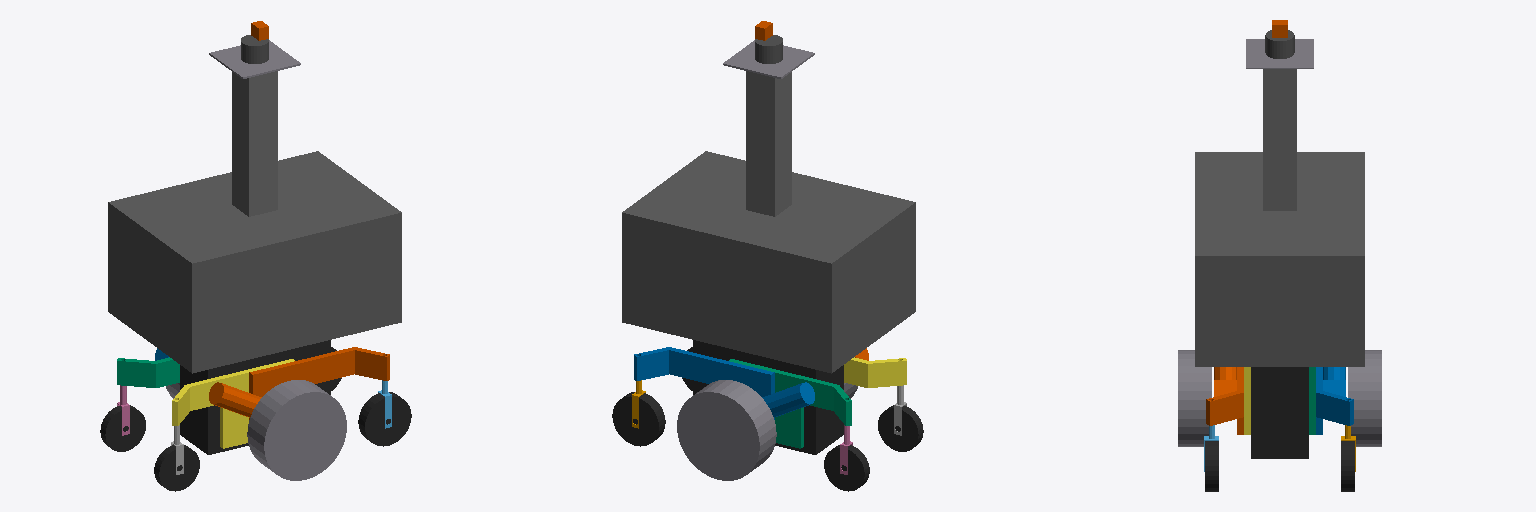
--- Facts derived from the render (not from the file) ---
The picture shows the robot from 3 angles, left to right: view 1: azimuth 30°, elevation 25°; view 2: azimuth 150°, elevation 25°; view 3: azimuth 270°, elevation 25°; orthographic projection.
Robot: infant — 29 links, 28 joints (3 continuous, 25 fixed); root link base_link; default pose: all joints at 0.
Links seen in each view (by area): view 1: box_link, wheel_right_link, mast_link, rocker_bogie_front_right_link, battery_link, rocker_bogie_back_right_link, wheel_large_right_link, rocker_bogie_back_left_link, table_link, wheel_small_right_link, wheel_small_left_link, velodyne_base_link; view 2: box_link, wheel_left_link, mast_link, rocker_bogie_front_left_link, battery_link, rocker_bogie_back_left_link, wheel_large_left_link, rocker_bogie_back_right_link, table_link, wheel_small_left_link, wheel_small_right_link, velodyne_base_link; view 3: box_link, battery_link, mast_link, wheel_left_link, wheel_right_link, rocker_bogie_front_left_link, rocker_bogie_front_right_link, table_link, wheel_large_left_link, wheel_large_right_link, velodyne_base_link.
Boxes of the visible links, x1,y1,x2,y2 form: box_link: (108,151,401,373); wheel_right_link: (247,380,346,480); mast_link: (232,71,277,216); rocker_bogie_front_right_link: (209,347,389,419); battery_link: (180,340,330,454); rocker_bogie_back_right_link: (172,359,294,448); wheel_large_right_link: (358,392,411,446); rocker_bogie_back_left_link: (117,357,179,387); table_link: (209,40,300,78); wheel_small_right_link: (154,445,199,491); wheel_small_left_link: (100,405,145,451); velodyne_base_link: (241,35,268,63); box_link: (622,151,915,373); wheel_left_link: (677,380,776,480); mast_link: (746,71,791,216); rocker_bogie_front_left_link: (634,347,814,419); battery_link: (693,340,843,454); rocker_bogie_back_left_link: (729,359,851,448); wheel_large_left_link: (612,392,665,446); rocker_bogie_back_right_link: (844,357,906,387); table_link: (723,40,814,78); wheel_small_left_link: (824,445,869,491); wheel_small_right_link: (878,405,923,451); velodyne_base_link: (755,35,782,63); box_link: (1195,152,1364,366); battery_link: (1251,367,1308,458); mast_link: (1263,69,1296,210); wheel_left_link: (1348,350,1381,446); wheel_right_link: (1178,350,1211,446); rocker_bogie_front_left_link: (1316,367,1353,434); rocker_bogie_front_right_link: (1206,367,1243,434); table_link: (1246,39,1313,68); wheel_large_left_link: (1341,441,1354,491); wheel_large_right_link: (1205,441,1218,491); velodyne_base_link: (1265,30,1294,58).
Size in the robot's own frame: 0.84 by 0.6 by 1.37 metres.
8 mesh visuals loaded from 7 distinct referenced files (6 Collada DAE); not drawn: 1 (reference not matched to a file when rendering).

robot.urdf — infant:
<?xml version="1.0" ?>
<!-- =================================================================================== -->
<!-- |    This document was autogenerated by xacro from infant.urdf.xacro              | -->
<!-- |    EDITING THIS FILE BY HAND IS NOT RECOMMENDED                                 | -->
<!-- =================================================================================== -->
<robot name="infant" xmlns:xacro="http://ros.org/wiki/xacro">
  <!-- constants for robot dimentions -->
  <!-- inertial for box -->
  <!-- inertial for cylinder -->
  <!-- inertial for wheel -->
  <!-- import Rviz color -->
  <material name="white">
    <color rgba="1 1 1 1"/>
  </material>
  <material name="gray">
    <color rgba="0.4 0.4 0.4 1"/>
  </material>
  <material name="lightgray">
    <color rgba="0.45 0.45 0.45 1"/>
  </material>
  <material name="ivory">
    <color rgba="0.54 0.53 0.56 1"/>
  </material>
  <material name="darkgray">
    <color rgba="0.35 0.35 0.35 1"/>
  </material>
  <material name="black">
    <color rgba="0.2 0.2 0.2 1"/>
  </material>
  <material name="laser_black">
    <color rgba="0.1 0.1 0.1 0.0.6"/>
  </material>
  <!-- import all Gazebo-customization elements, including Gazebo colors -->
  <gazebo reference="battery_link">
    <material>Gazebo/FlatBlack</material>
    <mu1>0.4</mu1>
    <mu2>0.4</mu2>
  </gazebo>
  <gazebo reference="rocker_bogie_back_left_link">
    <material>Gazebo/Road</material>
    <mu1>0.4</mu1>
    <mu2>0.4</mu2>
  </gazebo>
  <gazebo reference="rocker_bogie_back_right_link">
    <material>Gazebo/Road</material>
    <mu1>0.4</mu1>
    <mu2>0.4</mu2>
  </gazebo>
  <gazebo reference="rocker_bogie_front_left_link">
    <material>Gazebo/Road</material>
    <mu1>0.4</mu1>
    <mu2>0.4</mu2>
  </gazebo>
  <gazebo reference="rocker_bogie_front_right_link">
    <material>Gazebo/Road</material>
    <mu1>0.4</mu1>
    <mu2>0.4</mu2>
  </gazebo>
  <gazebo reference="caster_small_left_link">
    <material>Gazebo/Grey</material>
    <mu1>0.0</mu1>
    <mu2>0.0</mu2>
  </gazebo>
  <gazebo reference="caster_small_right_link">
    <material>Gazebo/Grey</material>
    <mu1>0.0</mu1>
    <mu2>0.0</mu2>
  </gazebo>
  <gazebo reference="caster_large_left_link">
    <material>Gazebo/Grey</material>
    <mu1>0.0</mu1>
    <mu2>0.0</mu2>
  </gazebo>
  <gazebo reference="caster_large_right_link">
    <material>Gazebo/Grey</material>
    <mu1>0.0</mu1>
    <mu2>0.0</mu2>
  </gazebo>
  <gazebo reference="wheel_left_link">
    <material>Gazebo/DarkGrey</material>
    <mu1>1.0</mu1>
    <mu2>1.0</mu2>
  </gazebo>
  <gazebo reference="wheel_right_link">
    <material>Gazebo/DarkGrey</material>
    <mu1>1.0</mu1>
    <mu2>1.0</mu2>
  </gazebo>
  <gazebo reference="wheel_small_left_link">
    <material>Gazebo/Black</material>
    <mu1>0.2</mu1>
    <mu2>0.0</mu2>
  </gazebo>
  <gazebo reference="wheel_small_right_link">
    <material>Gazebo/Black</material>
    <mu1>0.2</mu1>
    <mu2>0.0</mu2>
  </gazebo>
  <gazebo reference="wheel_large_left_link">
    <material>Gazebo/Black</material>
    <mu1>0.2</mu1>
    <mu2>0.0</mu2>
  </gazebo>
  <gazebo reference="wheel_large_right_link">
    <material>Gazebo/Black</material>
    <mu1>0.2</mu1>
    <mu2>0.0</mu2>
  </gazebo>
  <gazebo reference="box_link">
    <material>Gazebo/White</material>
  </gazebo>
  <gazebo reference="mast_link">
    <material>Gazebo/Grey</material>
  </gazebo>
  <gazebo reference="table_link">
    <material>Gazebo/Grey</material>
  </gazebo>
  <gazebo reference="velodyne_base_link">
    <material>Gazebo/Gold</material>
    <mu1>0.0</mu1>
    <mu2>0.0</mu2>
  </gazebo>
  <gazebo reference="velodyne_top_link">
    <material>Gazebo/Gold</material>
    <mu1>0.0</mu1>
    <mu2>0.0</mu2>
  </gazebo>
  <gazebo reference="velodyne_laser_link">
    <material>Gazebo/Black</material>
  </gazebo>
  <!-- imu -->
  <gazebo>
    <plugin filename="libgazebo_ros_imu.so" name="imu_controller">
      <updateRate>100.0</updateRate>
      <topicName>/infant/imu_data</topicName>
      <frameName>base_link</frameName>
      <bodyName>base_link</bodyName>
      <frameId>base_link</frameId>
      <topicName>/rinfant/imu_data</topicName>
      <serviceName>/default_imu</serviceName>
      <xyzOffset>0 0 0</xyzOffset>
      <rpyOffset>0 0 0</rpyOffset>
      <!-- deprecated -->
      <gaussianNoise>0</gaussianNoise>
      <!-- deprecated -->
      <accelDrift>0.5 0.5 0.5</accelDrift>
      <accelGaussianNoise>0.35 0.35 0.3</accelGaussianNoise>
      <rateDrift>0.0 0.0 0.0</rateDrift>
      <rateGaussianNoise>0.00 0.00 0.00</rateGaussianNoise>
      <headingDrift>0.0</headingDrift>
      <headingGaussianNoise>0.00</headingGaussianNoise>
    </plugin>
  </gazebo>
  <!-- velodyne -->
  <!--gazebo reference="velodyne_laser_link">
		<sensor type="ray" name="head_velodyne_sensor">
			<visualize>false</visualize>
			<update_rate>1</update_rate>
			<ray>
				<scan>
					<horizontal>
						<samples>1080</samples>
						<resolution>1</resolution>
						<min_angle>-3.1415</min_angle>
						<max_angle>3.1415</max_angle>
					</horizontal>
					<vertical>
						<samples>32</samples>
						<resolution>1</resolution>
						<min_angle>-0.186227</min_angle>
						<max_angle>0.535292</max_angle>
					</vertical>
				</scan>
				<range>
					<min>0.10</min>
					<max>70.0</max>
					<resolution>0.01</resolution>
				</range>
				<noise>
					<type>gaussian</type>
					<mean>0.0</mean>
					<stddev>0.01</stddev>
				</noise>
			</ray>
			<plugin name="gazebo_ros_head_velodyne_controller" filename="libgazebo_ros_block_laser.so">
				<alwaysOn>true</alwaysOn>
				<updateRate>1</updateRate>
				<topicName>/infant/velodyne_points</topicName>
				<frameName>velodyne_laser_link</frameName>
			</plugin>
		</sensor>
	</gazebo-->
  <!-- hokuyo -->
  <gazebo reference="velodyne_laser_link">
    <sensor name="hokuyo_sensor" type="ray">
      <pose>0 0 0 0 0 0</pose>
      <visualize>true</visualize>
      <update_rate>500</update_rate>
      <ray>
        <scan>
          <horizontal>
            <samples>32</samples>
            <resolution>1</resolution>
            <min_angle>-0.186227</min_angle>
            <max_angle>0.535292</max_angle>
          </horizontal>
        </scan>
        <range>
          <min>1.0</min>
          <max>70.0</max>
          <resolution>0.01</resolution>
        </range>
        <noise>
          <type>gaussian</type>
          <!-- Noise parameters based on published spec for Hokuyo laser
						 achieving "+-30mm" accuracy at range < 10m.  A mean of 0.0m and
						 stddev of 0.01m will put 99.7% of samples within 0.03m of the true
						 reading. -->
          <mean>0.0</mean>
          <stddev>0.0</stddev>
        </noise>
      </ray>
      <plugin filename="libgazebo_ros_laser.so" name="gazebo_ros_hokuyo_controller">
        <topicName>/infant/laser/scan</topicName>
        <frameName>velodyne_laser_link</frameName>
      </plugin>
    </sensor>
  </gazebo>
  <gazebo reference="velodyne_laser2_link">
    <sensor name="hokuyo_sensor_2" type="ray">
      <pose>0 0 0 0 0 0</pose>
      <visualize>true</visualize>
      <update_rate>500</update_rate>
      <ray>
        <scan>
          <horizontal>
            <samples>32</samples>
            <resolution>1</resolution>
            <min_angle>-0.186227</min_angle>
            <max_angle>0.535292</max_angle>
          </horizontal>
        </scan>
        <range>
          <min>1.0</min>
          <max>70.0</max>
          <resolution>0.01</resolution>
        </range>
        <noise>
          <type>gaussian</type>
          <mean>0.0</mean>
          <stddev>0.0</stddev>
        </noise>
      </ray>
      <plugin filename="libgazebo_ros_laser.so" name="gazebo_ros_hokuyo_controller">
        <topicName>/infant/laser/scan2</topicName>
        <frameName>velodyne_laser2_link</frameName>
      </plugin>
    </sensor>
  </gazebo>
  <gazebo reference="velodyne_laser3_link">
    <sensor name="hokuyo_sensor_3" type="ray">
      <pose>0 0 0 0 0 0</pose>
      <visualize>true</visualize>
      <update_rate>500</update_rate>
      <ray>
        <scan>
          <horizontal>
            <samples>32</samples>
            <resolution>1</resolution>
            <min_angle>-0.186227</min_angle>
            <max_angle>0.535292</max_angle>
          </horizontal>
        </scan>
        <range>
          <min>1.0</min>
          <max>70.0</max>
          <resolution>0.01</resolution>
        </range>
        <noise>
          <type>gaussian</type>
          <mean>0.0</mean>
          <stddev>0.0</stddev>
        </noise>
      </ray>
      <plugin filename="libgazebo_ros_laser.so" name="gazebo_ros_hokuyo_controller">
        <topicName>/infant/laser/scan3</topicName>
        <frameName>velodyne_laser3_link</frameName>
      </plugin>
    </sensor>
  </gazebo>
  <gazebo reference="velodyne_laser4_link">
    <sensor name="hokuyo_sensor_4" type="ray">
      <pose>0 0 0 0 0 0</pose>
      <visualize>true</visualize>
      <update_rate>500</update_rate>
      <ray>
        <scan>
          <horizontal>
            <samples>32</samples>
            <resolution>1</resolution>
            <min_angle>-0.186227</min_angle>
            <max_angle>0.535292</max_angle>
          </horizontal>
        </scan>
        <range>
          <min>1.0</min>
          <max>70.0</max>
          <resolution>0.01</resolution>
        </range>
        <noise>
          <type>gaussian</type>
          <mean>0.0</mean>
          <stddev>0.0</stddev>
        </noise>
      </ray>
      <plugin filename="libgazebo_ros_laser.so" name="gazebo_ros_hokuyo_controller">
        <topicName>/infant/laser/scan4</topicName>
        <frameName>velodyne_laser4_link</frameName>
      </plugin>
    </sensor>
  </gazebo>
  <gazebo reference="velodyne_laser5_link">
    <sensor name="hokuyo_sensor_5" type="ray">
      <pose>0 0 0 0 0 0</pose>
      <visualize>true</visualize>
      <update_rate>500</update_rate>
      <ray>
        <scan>
          <horizontal>
            <samples>32</samples>
            <resolution>1</resolution>
            <min_angle>-0.186227</min_angle>
            <max_angle>0.535292</max_angle>
          </horizontal>
        </scan>
        <range>
          <min>1.0</min>
          <max>70.0</max>
          <resolution>0.01</resolution>
        </range>
        <noise>
          <type>gaussian</type>
          <mean>0.0</mean>
          <stddev>0.0</stddev>
        </noise>
      </ray>
      <plugin filename="libgazebo_ros_laser.so" name="gazebo_ros_hokuyo_controller">
        <topicName>/infant/laser/scan5</topicName>
        <frameName>velodyne_laser5_link</frameName>
      </plugin>
    </sensor>
  </gazebo>
  <gazebo reference="velodyne_laser6_link">
    <sensor name="hokuyo_sensor_6" type="ray">
      <pose>0 0 0 0 0 0</pose>
      <visualize>true</visualize>
      <update_rate>500</update_rate>
      <ray>
        <scan>
          <horizontal>
            <samples>32</samples>
            <resolution>1</resolution>
            <min_angle>-0.186227</min_angle>
            <max_angle>0.535292</max_angle>
          </horizontal>
        </scan>
        <range>
          <min>1.0</min>
          <max>70.0</max>
          <resolution>0.01</resolution>
        </range>
        <noise>
          <type>gaussian</type>
          <mean>0.0</mean>
          <stddev>0.0</stddev>
        </noise>
      </ray>
      <plugin filename="libgazebo_ros_laser.so" name="gazebo_ros_hokuyo_controller">
        <topicName>/infant/laser/scan6</topicName>
        <frameName>velodyne_laser6_link</frameName>
      </plugin>
    </sensor>
  </gazebo>
  <gazebo reference="velodyne_laser7_link">
    <sensor name="hokuyo_sensor_7" type="ray">
      <pose>0 0 0 0 0 0</pose>
      <visualize>true</visualize>
      <update_rate>500</update_rate>
      <ray>
        <scan>
          <horizontal>
            <samples>32</samples>
            <resolution>1</resolution>
            <min_angle>-0.186227</min_angle>
            <max_angle>0.535292</max_angle>
          </horizontal>
        </scan>
        <range>
          <min>1.0</min>
          <max>70.0</max>
          <resolution>0.01</resolution>
        </range>
        <noise>
          <type>gaussian</type>
          <mean>0.0</mean>
          <stddev>0.0</stddev>
        </noise>
      </ray>
      <plugin filename="libgazebo_ros_laser.so" name="gazebo_ros_hokuyo_controller">
        <topicName>/infant/laser/scan7</topicName>
        <frameName>velodyne_laser7_link</frameName>
      </plugin>
    </sensor>
  </gazebo>
  <gazebo reference="velodyne_laser8_link">
    <sensor name="hokuyo_sensor_8" type="ray">
      <pose>0 0 0 0 0 0</pose>
      <visualize>true</visualize>
      <update_rate>500</update_rate>
      <ray>
        <scan>
          <horizontal>
            <samples>32</samples>
            <resolution>1</resolution>
            <min_angle>-0.186227</min_angle>
            <max_angle>0.535292</max_angle>
          </horizontal>
        </scan>
        <range>
          <min>1.0</min>
          <max>70.0</max>
          <resolution>0.01</resolution>
        </range>
        <noise>
          <type>gaussian</type>
          <mean>0.0</mean>
          <stddev>0.0</stddev>
        </noise>
      </ray>
      <plugin filename="libgazebo_ros_laser.so" name="gazebo_ros_hokuyo_controller">
        <topicName>/infant/laser/scan8</topicName>
        <frameName>velodyne_laser8_link</frameName>
      </plugin>
    </sensor>
  </gazebo>
  <!-- ros_control plugin -->
  <gazebo>
    <plugin filename="libgazebo_ros_control.so" name="gazebo_ros_control">
      <robotNamespace>/infant</robotNamespace>
    </plugin>
  </gazebo>
  <link name="base_link"/>
  <joint name="base_to_battery_joint" type="fixed">
    <parent link="base_link"/>
    <child link="battery_link"/>
    <origin rpy="0 0 0" xyz="0 0 0.140"/>
  </joint>
  <link name="battery_link">
    <visual>
      <geometry>
        <box size="0.42 0.17 0.37"/>
      </geometry>
      <origin rpy="0 0 0" xyz="0 0 0.085"/>
      <material name="black"/>
    </visual>
    <collision>
      <geometry>
        <box size="0.42 0.17 0.37"/>
      </geometry>
      <origin rpy="0 0 0" xyz="0 0 0.085"/>
    </collision>
    <inertial>
      <origin rpy="0 0 0" xyz="0.0 0.0 0.085"/>
      <mass value="40"/>
      <inertia ixx="0.552666666667" ixy="0.0" ixz="0.0" iyy="1.04433333333" iyz="0.0" izz="0.684333333333"/>
    </inertial>
  </link>
  <joint name="rocker_bogie_back_left_joint" type="fixed">
    <parent link="battery_link"/>
    <child link="rocker_bogie_back_left_link"/>
    <origin rpy="0 0 0" xyz="0 0.085 0"/>
  </joint>
  <link name="rocker_bogie_back_left_link">
    <visual>
      <geometry>
        <mesh filename="package://infant_description/meshes/rocker_bogie_parts_back_left.dae"/>
      </geometry>
      <origin rpy="0 3.141592 0" xyz="0 -0.0 0"/>
    </visual>
    <collision>
      <geometry>
        <box size="0.46056514 0.09383127 0.23"/>
      </geometry>
      <origin rpy="0 0 0" xyz="-0.15028257 0.046915635 0.035"/>
    </collision>
    <inertial>
      <origin rpy="0 0 0" xyz="-0.15028257 0.046915635 0.035"/>
      <mass value="5"/>
      <inertia ixx="0.0257101280124" ixy="0.0" ixz="0.0" iyy="0.11042510341" iyz="0.0" izz="0.0920518980888"/>
    </inertial>
  </link>
  <joint name="rocker_bogie_back_right_joint" type="fixed">
    <parent link="battery_link"/>
    <child link="rocker_bogie_back_right_link"/>
    <origin rpy="0 0 0" xyz="0 -0.085 0"/>
  </joint>
  <link name="rocker_bogie_back_right_link">
    <visual>
      <geometry>
        <mesh filename="package://infant_description/meshes/rocker_bogie_parts_back_right.dae"/>
      </geometry>
      <origin rpy="0 3.141592 0" xyz="0 -0.02 0"/>
    </visual>
    <collision>
      <geometry>
        <box size="0.46056514 0.09383127 0.23"/>
      </geometry>
      <origin rpy="0 0 0" xyz="-0.15028257 -0.046915635 0.035"/>
    </collision>
    <inertial>
      <origin rpy="0 0 0" xyz="-0.15028257 -0.046915635 0.035"/>
      <mass value="5"/>
      <inertia ixx="0.0257101280124" ixy="0.0" ixz="0.0" iyy="0.11042510341" iyz="0.0" izz="0.0920518980888"/>
    </inertial>
  </link>
  <joint name="rocker_bogie_front_left_joint" type="fixed">
    <parent link="battery_link"/>
    <child link="rocker_bogie_front_left_link"/>
    <origin rpy="0 0 0" xyz="0 0.105 0"/>
  </joint>
  <link name="rocker_bogie_front_left_link">
    <visual>
      <geometry>
        <mesh filename="package://infant_description/meshes/rocker_bogie_parts_front_left.dae"/>
      </geometry>
      <origin rpy="3.141592 0 0" xyz="0 0.02 0"/>
    </visual>
    <collision>
      <geometry>
        <box size="0.42535668 0.11153324 0.23"/>
      </geometry>
      <origin rpy="0 0 0" xyz="0.13267834 0.05576662 0.035"/>
    </collision>
    <inertial>
      <origin rpy="0 0 0" xyz="0.13267834 0.05576662 0.035"/>
      <mass value="5"/>
      <inertia ixx="0.0272248598437" ixy="0.0" ixz="0.0" iyy="0.0974284605086" iyz="0.0" izz="0.080569987019"/>
    </inertial>
  </link>
  <joint name="rocker_bogie_front_right_joint" type="fixed">
    <parent link="battery_link"/>
    <child link="rocker_bogie_front_right_link"/>
    <origin rpy="0 0 0" xyz="0 -0.105 0"/>
  </joint>
  <link name="rocker_bogie_front_right_link">
    <visual>
      <geometry>
        <mesh filename="package://infant_description/meshes/rocker_bogie_parts_front_right.dae"/>
      </geometry>
      <origin rpy="3.141592 0 0" xyz="0 0.0 0"/>
    </visual>
    <collision>
      <geometry>
        <box size="0.42535668 0.11153324 0.23"/>
      </geometry>
      <origin rpy="0 0 0" xyz="0.13267834 -0.05576662 0.035"/>
    </collision>
    <inertial>
      <origin rpy="0 0 0" xyz="0.13267834 -0.05576662 0.035"/>
      <mass value="5"/>
      <inertia ixx="0.0272248598437" ixy="0.0" ixz="0.0" iyy="0.0974284605086" iyz="0.0" izz="0.080569987019"/>
    </inertial>
  </link>
  <joint name="caster_small_left_joint" type="fixed">
    <parent link="rocker_bogie_back_left_link"/>
    <child link="caster_small_left_link"/>
    <origin rpy="0 0 0" xyz="-0.360 0.075 0.070"/>
    <axis xyz="0 0 1"/>
  </joint>
  <link name="caster_small_left_link">
    <visual>
      <geometry>
        <mesh filename="package://infant_description/meshes/caster_small.dae"/>
      </geometry>
      <origin rpy="-1.570796 0 1.570796" xyz="0 0 0"/>
    </visual>
    <collision>
      <geometry>
        <cylinder length="0.065" radius="0.01"/>
      </geometry>
      <origin rpy="0 0 0" xyz="0 0 -0.0325"/>
    </collision>
    <inertial>
      <origin rpy="0 0 0" xyz="0.0 0.0 -0.0325"/>
      <mass value="0.5"/>
      <inertia ixx="0.000188541666667" ixy="0.0" ixz="0.0" iyy="0.000188541666667" iyz="0.0" izz="2.5e-05"/>
    </inertial>
  </link>
  <joint name="caster_small_right_joint" type="fixed">
    <parent link="rocker_bogie_back_right_link"/>
    <child link="caster_small_right_link"/>
    <origin rpy="0 0 0" xyz="-0.360 -0.075 0.070"/>
    <axis xyz="0 0 1"/>
  </joint>
  <link name="caster_small_right_link">
    <visual>
      <geometry>
        <mesh filename="package://infant_description/meshes/caster_small.dae"/>
      </geometry>
      <origin rpy="-1.570796 0 1.570796" xyz="0 0 0"/>
    </visual>
    <collision>
      <geometry>
        <cylinder length="0.065" radius="0.01"/>
      </geometry>
      <origin rpy="0 0 0" xyz="0 0 -0.0325"/>
    </collision>
    <inertial>
      <origin rpy="0 0 0" xyz="0.0 0.0 -0.0325"/>
      <mass value="0.5"/>
      <inertia ixx="0.000188541666667" ixy="0.0" ixz="0.0" iyy="0.000188541666667" iyz="0.0" izz="2.5e-05"/>
    </inertial>
  </link>
  <joint name="caster_large_left_joint" type="fixed">
    <parent link="rocker_bogie_front_left_link"/>
    <child link="caster_large_left_link"/>
    <origin rpy="0 0 0" xyz="0.330 0.095 0.070"/>
    <axis xyz="0 0 1"/>
  </joint>
  <link name="caster_large_left_link">
    <visual>
      <geometry>
        <mesh filename="package://infant_description/meshes/caster_large.dae"/>
      </geometry>
      <origin rpy="-1.570796 0 1.570796" xyz="0 0 0"/>
    </visual>
    <collision>
      <geometry>
        <cylinder length="0.045" radius="0.01"/>
      </geometry>
      <origin rpy="0 0 0" xyz="0 0 -0.0225"/>
    </collision>
    <inertial>
      <origin rpy="0 0 0" xyz="0.0 0.0 -0.0225"/>
      <mass value="0.5"/>
      <inertia ixx="9.6875e-05" ixy="0.0" ixz="0.0" iyy="9.6875e-05" iyz="0.0" izz="2.5e-05"/>
    </inertial>
  </link>
  <joint name="caster_large_right_joint" type="fixed">
    <parent link="rocker_bogie_front_right_link"/>
    <child link="caster_large_right_link"/>
    <origin rpy="0 0 0" xyz="0.330 -0.095 0.070"/>
    <axis xyz="0 0 1"/>
  </joint>
  <link name="caster_large_right_link">
    <visual>
      <geometry>
        <mesh filename="package://infant_description/meshes/caster_large.dae"/>
      </geometry>
      <origin rpy="-1.570796 0 1.570796" xyz="0 0 0"/>
    </visual>
    <collision>
      <geometry>
        <cylinder length="0.045" radius="0.01"/>
      </geometry>
      <origin rpy="0 0 0" xyz="0 0 -0.0225"/>
    </collision>
    <inertial>
      <origin rpy="0 0 0" xyz="0.0 0.0 -0.0225"/>
      <mass value="0.5"/>
      <inertia ixx="9.6875e-05" ixy="0.0" ixz="0.0" iyy="9.6875e-05" iyz="0.0" izz="2.5e-05"/>
    </inertial>
  </link>
  <joint name="wheel_left_joint" type="continuous">
    <parent link="rocker_bogie_front_left_link"/>
    <child link="wheel_left_link"/>
    <origin rpy="0 0 0" xyz="0 0.145 0"/>
    <axis xyz="0 1 0"/>
  </joint>
  <link name="wheel_left_link">
    <visual>
      <geometry>
        <cylinder length="0.100" radius="0.14239"/>
      </geometry>
      <origin rpy="1.570796 0 0" xyz="0 0 0"/>
      <material name="ivory"/>
    </visual>
    <collision>
      <geometry>
        <cylinder length="0.100" radius="0.14239"/>
      </geometry>
      <origin rpy="1.570796 0 0" xyz="0 0 0"/>
    </collision>
    <inertial>
      <origin rpy="0 0 0" xyz="0.0 0.0 0.0"/>
      <mass value="4"/>
      <inertia ixx="0.0235652664543" ixy="0.0" ixz="0.0" iyy="0.040463866242" iyz="0.0" izz="0.0235652664543"/>
    </inertial>
  </link>
  <joint name="wheel_right_joint" type="continuous">
    <parent link="rocker_bogie_front_right_link"/>
    <child link="wheel_right_link"/>
    <origin rpy="0 0 0" xyz="0 -0.145 0"/>
    <axis xyz="0 1 0"/>
  </joint>
  <link name="wheel_right_link">
    <visual>
      <geometry>
        <cylinder length="0.100" radius="0.14239"/>
      </geometry>
      <origin rpy="1.570796 0 0" xyz="0 0 0"/>
      <material name="ivory"/>
    </visual>
    <collision>
      <geometry>
        <cylinder length="0.100" radius="0.14239"/>
      </geometry>
      <origin rpy="1.570796 0 0" xyz="0 0 0"/>
    </collision>
    <inertial>
      <origin rpy="0 0 0" xyz="0.0 0.0 0.0"/>
      <mass value="4"/>
      <inertia ixx="0.0235652664543" ixy="0.0" ixz="0.0" iyy="0.040463866242" iyz="0.0" izz="0.0235652664543"/>
    </inertial>
  </link>
  <joint name="wheel_small_left_joint" type="fixed">
    <parent link="caster_small_left_link"/>
    <child link="wheel_small_left_link"/>
    <origin rpy="0 0 0" xyz="0 0 -0.145"/>
    <axis xyz="0 1 0"/>
  </joint>
  <link name="wheel_small_left_link">
    <visual>
      <geometry>
        <cylinder length="0.030" radius="0.070"/>
      </geometry>
      <origin rpy="1.570796 0 0" xyz="0 0 0"/>
      <material name="black"/>
    </visual>
    <collision>
      <geometry>
        <cylinder length="0.030" radius="0.070"/>
      </geometry>
      <origin rpy="1.570796 0 0" xyz="0 0 0"/>
    </collision>
    <inertial>
      <origin rpy="0 0 0" xyz="0.0 0.0 0.0"/>
      <mass value="1.5"/>
      <inertia ixx="0.00195" ixy="0.0" ixz="0.0" iyy="0.003675" iyz="0.0" izz="0.00195"/>
    </inertial>
  </link>
  <joint name="wheel_small_right_joint" type="fixed">
    <parent link="caster_small_right_link"/>
    <child link="wheel_small_right_link"/>
    <origin rpy="0 0 0" xyz="0 0 -0.145"/>
    <axis xyz="0 1 0"/>
  </joint>
  <link name="wheel_small_right_link">
    <visual>
      <geometry>
        <cylinder length="0.030" radius="0.070"/>
      </geometry>
      <origin rpy="1.570796 0 0" xyz="0 0 0"/>
      <material name="black"/>
    </visual>
    <collision>
      <geometry>
        <cylinder length="0.030" radius="0.070"/>
      </geometry>
      <origin rpy="1.570796 0 0" xyz="0 0 0"/>
    </collision>
    <inertial>
      <origin rpy="0 0 0" xyz="0.0 0.0 0.0"/>
      <mass value="1.5"/>
      <inertia ixx="0.00195" ixy="0.0" ixz="0.0" iyy="0.003675" iyz="0.0" izz="0.00195"/>
    </inertial>
  </link>
  <joint name="wheel_large_left_joint" type="fixed">
    <parent link="caster_large_left_link"/>
    <child link="wheel_large_left_link"/>
    <origin pry="0 0 0" xyz="0 0 -0.130"/>
    <axis xyz="0 1 0"/>
  </joint>
  <link name="wheel_large_left_link">
    <visual>
      <geometry>
        <cylinder length="0.040" radius="0.080"/>
      </geometry>
      <origin rpy="1.570796 0 0" xyz="0 0 0"/>
      <material name="black"/>
    </visual>
    <collision>
      <geometry>
        <cylinder length="0.040" radius="0.080"/>
      </geometry>
      <origin rpy="1.570796 0 0" xyz="0 0 0"/>
    </collision>
    <inertial>
      <origin rpy="0 0 0" xyz="0.0 0.0 0.0"/>
      <mass value="1.5"/>
      <inertia ixx="0.0026" ixy="0.0" ixz="0.0" iyy="0.0048" iyz="0.0" izz="0.0026"/>
    </inertial>
  </link>
  <joint name="wheel_large_right_joint" type="fixed">
    <parent link="caster_large_right_link"/>
    <child link="wheel_large_right_link"/>
    <origin pry="0 0 0" xyz="0 0 -0.130"/>
    <axis xyz="0 1 0"/>
  </joint>
  <link name="wheel_large_right_link">
    <visual>
      <geometry>
        <cylinder length="0.040" radius="0.080"/>
      </geometry>
      <origin rpy="1.570796 0 0" xyz="0 0 0"/>
      <material name="black"/>
    </visual>
    <collision>
      <geometry>
        <cylinder length="0.040" radius="0.080"/>
      </geometry>
      <origin rpy="1.570796 0 0" xyz="0 0 0"/>
    </collision>
    <inertial>
      <origin rpy="0 0 0" xyz="0.0 0.0 0.0"/>
      <mass value="1.5"/>
      <inertia ixx="0.0026" ixy="0.0" ixz="0.0" iyy="0.0048" iyz="0.0" izz="0.0026"/>
    </inertial>
  </link>
  <joint name="box_joint" type="fixed">
    <parent link="battery_link"/>
    <child link="box_link"/>
    <origin rpy="0 0 0" xyz="0 0 0.450"/>
  </joint>
  <link name="box_link">
    <visual>
      <geometry>
        <box size="0.720 0.500 0.360"/>
      </geometry>
      <origin rpy="0 0 0" xyz="0 0 0"/>
      <material name="gray"/>
    </visual>
    <collision>
      <geometry>
        <box size="0.720 0.500 0.360"/>
      </geometry>
      <origin rpy="0 0 0" xyz="0 0 0"/>
    </collision>
    <inertial>
      <origin rpy="0 0 0" xyz="0.0 0.0 0.0"/>
      <mass value="30"/>
      <inertia ixx="0.949" ixy="0.0" ixz="0.0" iyy="1.62" iyz="0.0" izz="1.921"/>
    </inertial>
  </link>
  <joint name="mast_joint" type="fixed">
    <parent link="box_link"/>
    <child link="mast_link"/>
    <origin rpy="0 0 0" xyz="0 0 0.420"/>
  </joint>
  <link name="mast_link">
    <visual>
      <geometry>
        <box size="0.100 0.100 0.480"/>
      </geometry>
      <origin rpy="0 0 0" xyz="0 0 0"/>
      <material name="lightgray"/>
    </visual>
    <collision>
      <geometry>
        <box size="0.100 0.100 0.480"/>
      </geometry>
      <origin rpy="0 0 0" xyz="0 0 0"/>
    </collision>
    <inertial>
      <origin rpy="0 0 0" xyz="0.0 0.0 0.0"/>
      <mass value="10"/>
      <inertia ixx="0.200333333333" ixy="0.0" ixz="0.0" iyy="0.200333333333" iyz="0.0" izz="0.0166666666667"/>
    </inertial>
  </link>
  <joint name="table_joint" type="fixed">
    <parent link="mast_link"/>
    <child link="table_link"/>
    <origin rpy="0 0 0" xyz="0 0 0.246"/>
  </joint>
  <link name="table_link">
    <visual>
      <geometry>
        <box size="0.200 0.200 0.006"/>
      </geometry>
      <origin rpy="0 0 0" xyz="0 0 0"/>
      <material name="ivory"/>
    </visual>
    <collision>
      <geometry>
        <box size="0.200 0.200 0.006"/>
      </geometry>
      <origin rpy="0 0 0" xyz="0 0 0"/>
    </collision>
    <inertial>
      <origin rpy="0 0 0" xyz="0.0 0.0 0.0"/>
      <mass value="1"/>
      <inertia ixx="0.00333633333333" ixy="0.0" ixz="0.0" iyy="0.00333633333333" iyz="0.0" izz="0.00666666666667"/>
    </inertial>
  </link>
  <!-- velodyne -->
  <joint name="velodyne_base_joint" type="fixed">
    <parent link="table_link"/>
    <child link="velodyne_base_link"/>
    <origin rpy="0 0 0" xyz="0 0 0.003"/>
  </joint>
  <link name="velodyne_base_link">
    <visual>
      <geometry>
        <cylinder length="0.058674" radius="0.042672"/>
      </geometry>
      <origin rpy="0 0 0" xyz="0 0 0.029337"/>
      <material name="darkgray"/>
    </visual>
    <collision>
      <geometry>
        <cylinder length="0.058674" radius="0.042672"/>
      </geometry>
      <origin rpy="0 0 0" xyz="0 0 0.029337"/>
    </collision>
    <inertial>
      <origin rpy="0 0 0" xyz="0.0 0.0 0.029337"/>
      <mass value="1.0"/>
      <inertia ixx="0.000742111419" ixy="0.0" ixz="0.0" iyy="0.000742111419" iyz="0.0" izz="0.000910449792"/>
    </inertial>
  </link>
  <joint name="velodyne_top_joint" type="continuous">
    <parent link="velodyne_base_link"/>
    <child link="velodyne_top_link"/>
    <origin rpy="0 0 0" xyz="0 0 0.058674"/>
    <axis xyz="0 0 1"/>
  </joint>
  <link name="velodyne_top_link">
    <visual>
      <geometry>
        <mesh filename="package://infant_description/meshes/velodyne_top.dae"/>
      </geometry>
      <origin rpy="1.570796 0 0" xyz="0 0 0"/>
    </visual>
    <collision>
      <geometry>
        <cylinder length="0.0835714" radius="0.042672"/>
      </geometry>
      <origin rpy="0 0 0" xyz="0 0 0.0417857"/>
    </collision>
    <inertial>
      <origin rpy="0 0 0" xyz="0.0 0.0 0.0417857"/>
      <mass value="0.0001"/>
      <inertia ixx="1.03723980416e-07" ixy="0.0" ixz="0.0" iyy="1.03723980416e-07" iyz="0.0" izz="9.10449792e-08"/>
    </inertial>
  </link>
  <joint name="velodyne_laser_joint" type="fixed">
    <parent link="velodyne_top_link"/>
    <child link="velodyne_laser_link"/>
    <origin rpy="-1.570796 0 0" xyz="0 0 0.02716935"/>
  </joint>
  <link name="velodyne_laser_link">
    <visual>
      <geometry>
        <box size="0.03475311 0.0468099 0.0404979"/>
      </geometry>
      <origin rpy="1.570796 0 0" xyz="0.017376555 0 0"/>
      <material name="lase_black"/>
    </visual>
    <collision>
      <geometry>
        <box size="0.03475311 0.0468099 0.0404979"/>
      </geometry>
      <origin rpy="1.570796 0 0" xyz="0.017376555 0 0"/>
    </collision>
    <inertial>
      <origin rpy="0 0 0" xyz="0.017376555 0.0 0.0"/>
      <mass value="0.0001"/>
      <inertia ixx="3.19270553535e-08" ixy="0.0" ixz="0.0" iyy="2.3732154659e-08" iyz="0.0" izz="2.8324544939e-08"/>
    </inertial>
  </link>
  <joint name="velodyne_laser2_joint" type="fixed">
    <parent link="velodyne_top_link"/>
    <child link="velodyne_laser2_link"/>
    <origin rpy="-1.570796 0 1.570796" xyz="0 0 0.02716935"/>
  </joint>
  <link name="velodyne_laser2_link"/>
  <joint name="velodyne_laser3_joint" type="fixed">
    <parent link="velodyne_top_link"/>
    <child link="velodyne_laser3_link"/>
    <origin rpy="-1.570796 0 3.141592" xyz="0 0 0.02716935"/>
  </joint>
  <link name="velodyne_laser3_link"/>
  <joint name="velodyne_laser4_joint" type="fixed">
    <parent link="velodyne_top_link"/>
    <child link="velodyne_laser4_link"/>
    <origin rpy="-1.570796 0 -1.570796" xyz="0 0 0.02716935"/>
  </joint>
  <link name="velodyne_laser4_link"/>
  <joint name="velodyne_laser5_joint" type="fixed">
    <parent link="velodyne_top_link"/>
    <child link="velodyne_laser5_link"/>
    <origin rpy="-1.570796 0 0.785398" xyz="0 0 0.02716935"/>
  </joint>
  <link name="velodyne_laser5_link"/>
  <joint name="velodyne_laser6_joint" type="fixed">
    <parent link="velodyne_top_link"/>
    <child link="velodyne_laser6_link"/>
    <origin rpy="-1.570796 0 2.356194" xyz="0 0 0.02716935"/>
  </joint>
  <link name="velodyne_laser6_link"/>
  <joint name="velodyne_laser7_joint" type="fixed">
    <parent link="velodyne_top_link"/>
    <child link="velodyne_laser7_link"/>
    <origin rpy="-1.570796 0 -0.785398" xyz="0 0 0.02716935"/>
  </joint>
  <link name="velodyne_laser7_link"/>
  <joint name="velodyne_laser8_joint" type="fixed">
    <parent link="velodyne_top_link"/>
    <child link="velodyne_laser8_link"/>
    <origin rpy="-1.570796 0 -2.356194" xyz="0 0 0.02716935"/>
  </joint>
  <link name="velodyne_laser8_link"/>
  <!-- transmission -->
  <transmission name="wheel_left_trans">
    <type>transmission_interface/SimpleTransmission</type>
    <joint name="wheel_left_joint">
      <hardwareInterface>VelocityJointInterface</hardwareInterface>
    </joint>
    <actuator name="wheel_left_motor">
      <hardwareInterface>VelocityJointInterface</hardwareInterface>
      <mechanicalReduction>1</mechanicalReduction>
    </actuator>
  </transmission>
  <transmission name="wheel_right_trans">
    <type>transmission_interface/SimpleTransmission</type>
    <joint name="wheel_right_joint">
      <hardwareInterface>VelocityJointInterface</hardwareInterface>
    </joint>
    <actuator name="wheel_right_motor">
      <hardwareInterface>VelocityJointInterface</hardwareInterface>
      <mechanicalReduction>1</mechanicalReduction>
    </actuator>
  </transmission>
  <transmission name="velodyne_top_trans">
    <type>transmission_interface/SimpleTransmission</type>
    <joint name="velodyne_top_joint">
      <hardwareInterface>VelocityJointInterface</hardwareInterface>
    </joint>
    <actuator name="velodyne_top_motor">
      <hardwareInterface>VelocityJointInterface</hardwareInterface>
      <mechanicalReduction>1</mechanicalReduction>
    </actuator>
  </transmission>
</robot>
